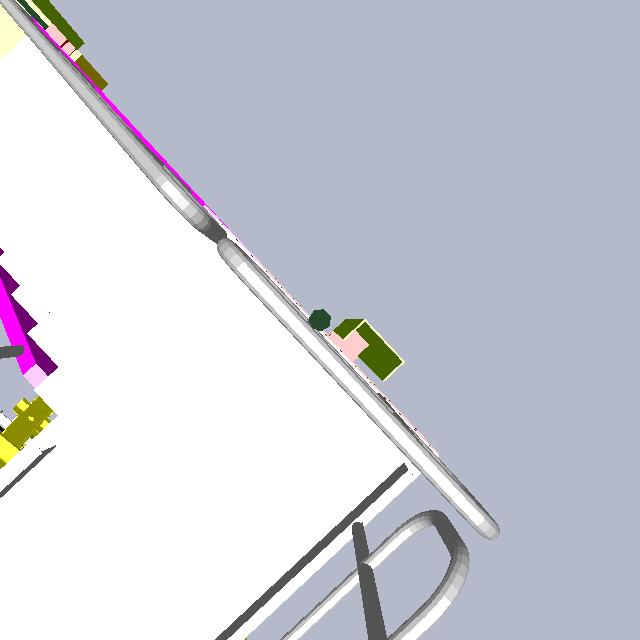Poste: (300, 304, 338, 341)
Soporte: (324, 315, 410, 394)
